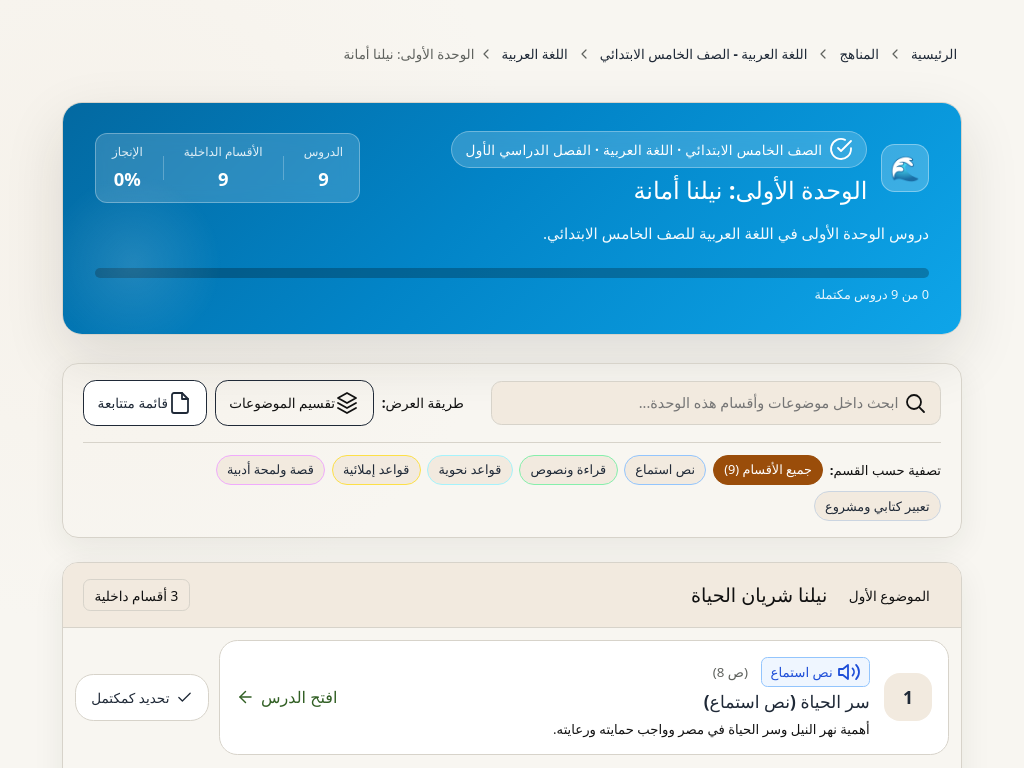
تعميم الفهرس والأقسام الداخلية لجميع الوحدات والمراحل (Unit Index Generalization) › يتيح البحث والفلترة داخل الوحدة
The width and height of the screenshot is (1024, 768).
Type "همزة القطع" into the search field labelled "ابحث داخل موضوعات وأقسام هذه الوحدة..." at (716, 403), box [491,381,941,425]
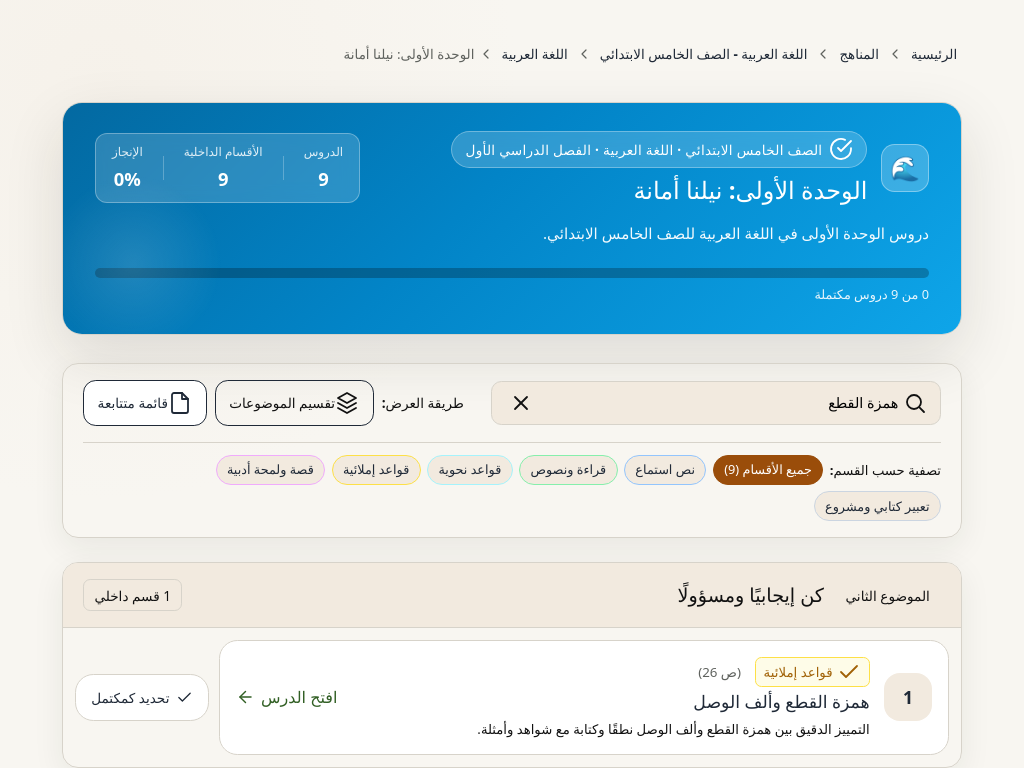
Check: the text "همزة القطع وألف الوصل" is shown, box [693,690,870,713]
Check: the link "سر الحياة (نص استماع)" is gone
